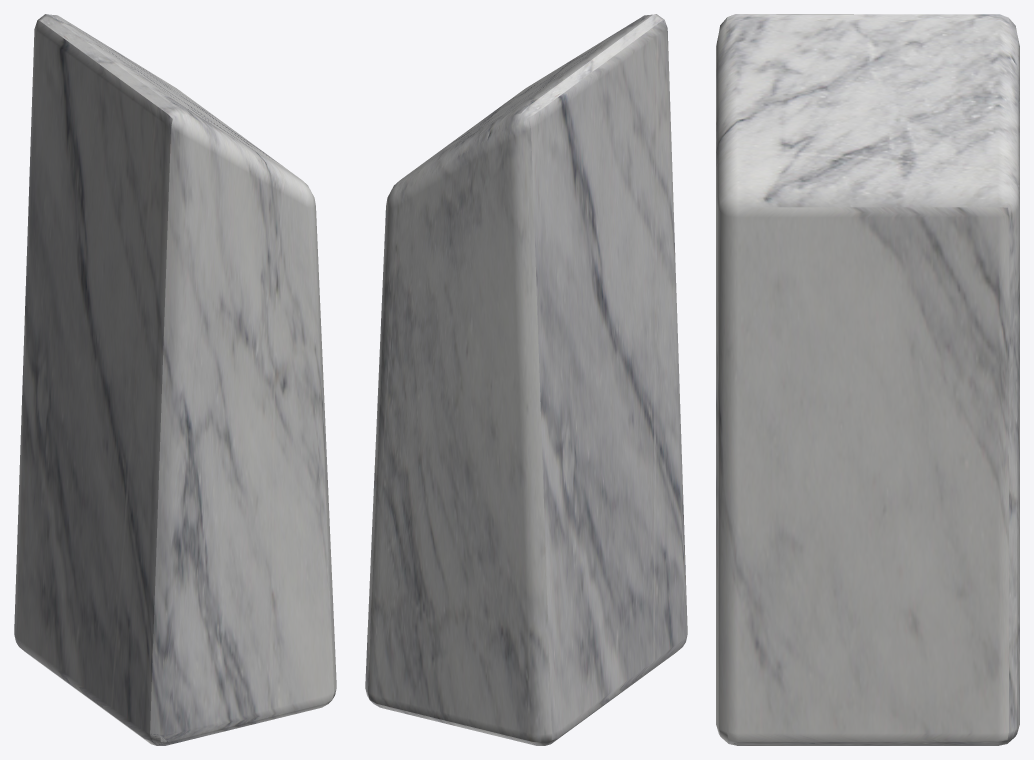
Rendered from podium.fbx.
3 views of the same model, side by side, from view 1: azimuth 30°, elevation 25°; view 2: azimuth 150°, elevation 25°; view 3: azimuth 270°, elevation 25° (orthographic). The views are drawn at different scales.
Visible parts, largest first — view 1: pCube1; view 2: pCube1; view 3: pCube1.
Part boxes in pixels (x1=…): pCube1: x1=14, y1=14, x2=336, y2=745; pCube1: x1=365, y1=14, x2=687, y2=745; pCube1: x1=716, y1=14, x2=1019, y2=745.
Size of the model in its own units: 0.9926 by 3.14 by 1.31.
1 material, 1 textured.
